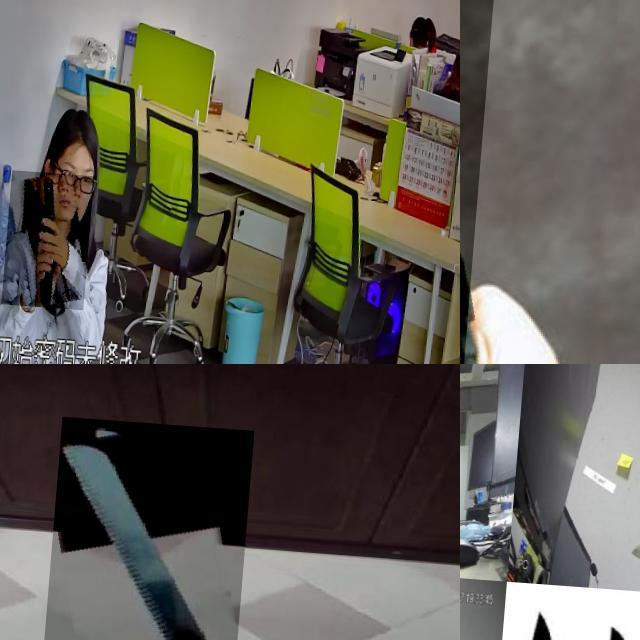-: (45, 415, 256, 640), (460, 507, 471, 533)
gun-knife-thesis - v11 Yolov5 augmented: (460, 0, 594, 364), (12, 168, 102, 306)
